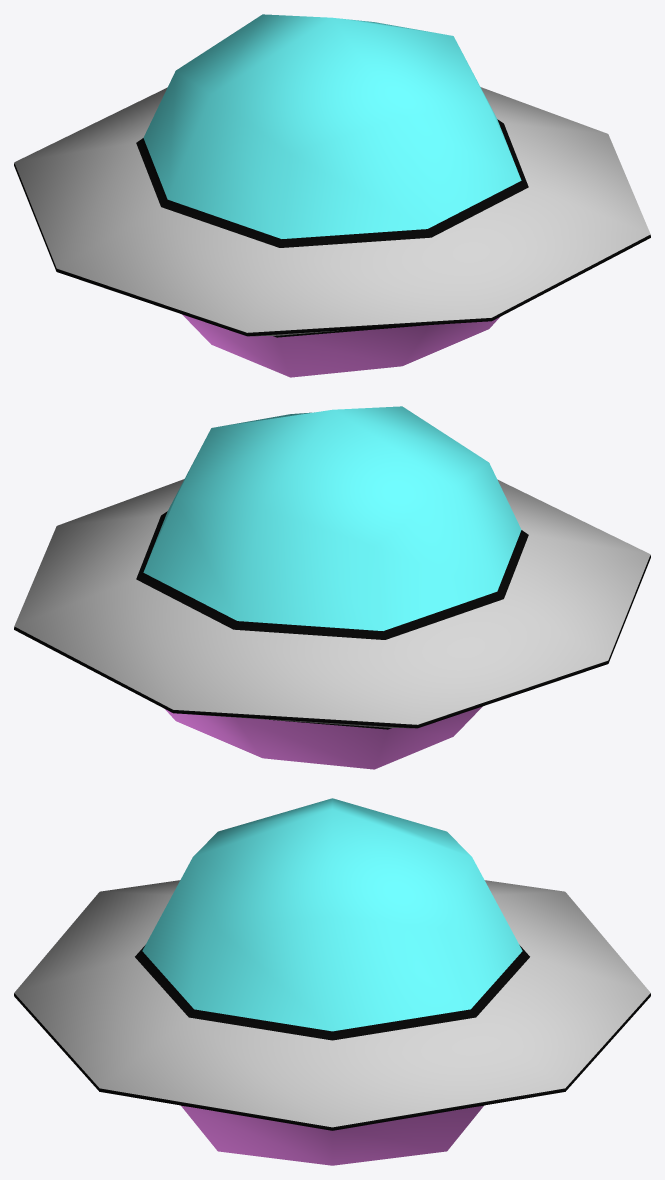
The model's file is UFO V3.fbx.
The picture shows the model from 3 angles, top to bottom: view 1: azimuth 30°, elevation 25°; view 2: azimuth 150°, elevation 25°; view 3: azimuth 270°, elevation 25°; orthographic projection.
Visible parts, largest first — view 1: Cube; view 2: Cube; view 3: Cube.
Part boxes in pixels (box(x1,y1,x2,y2)): Cube: box(14, 14, 650, 377); Cube: box(14, 406, 650, 769); Cube: box(14, 798, 650, 1165).
Bounding box in the file's own units: 2.78 × 2.78 × 1.47.
